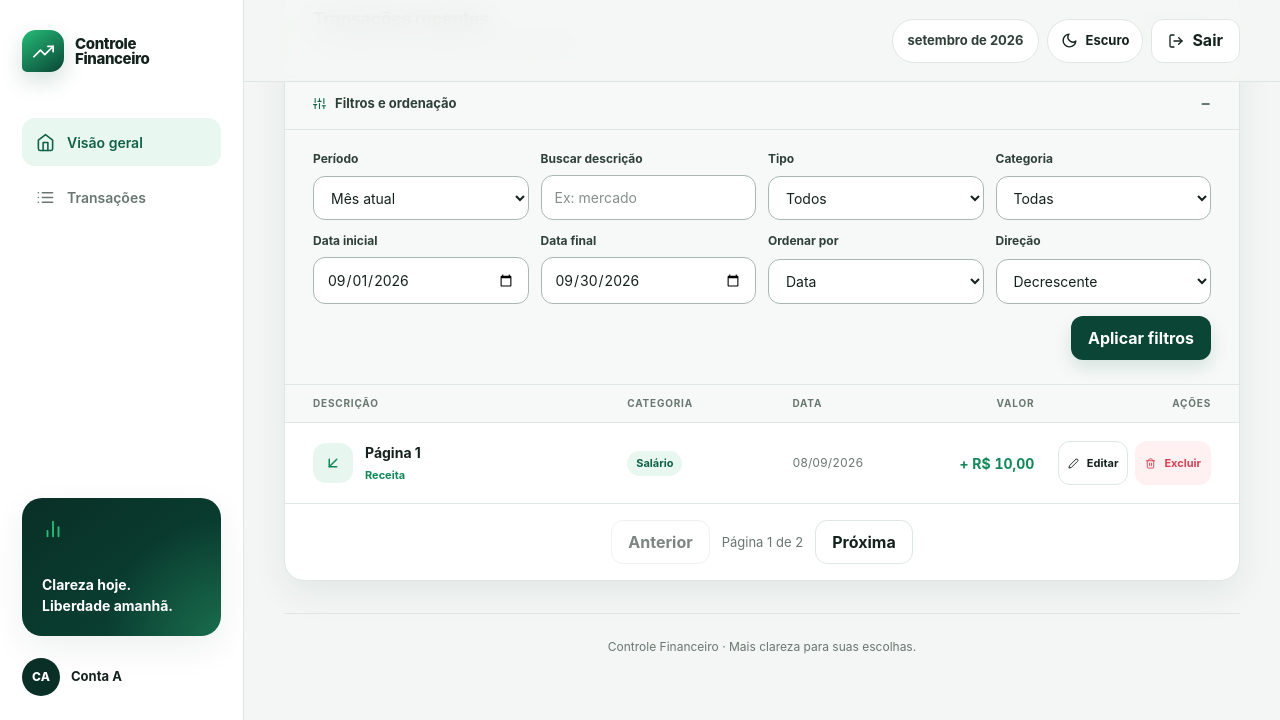
Test: navega entre páginas sem perder os filtros
(page scrolled)
Expected: the button "Sair" is shown, [1151,18,1240,62]
Click the button "Próxima" at (864, 542), box [815,520,913,564]
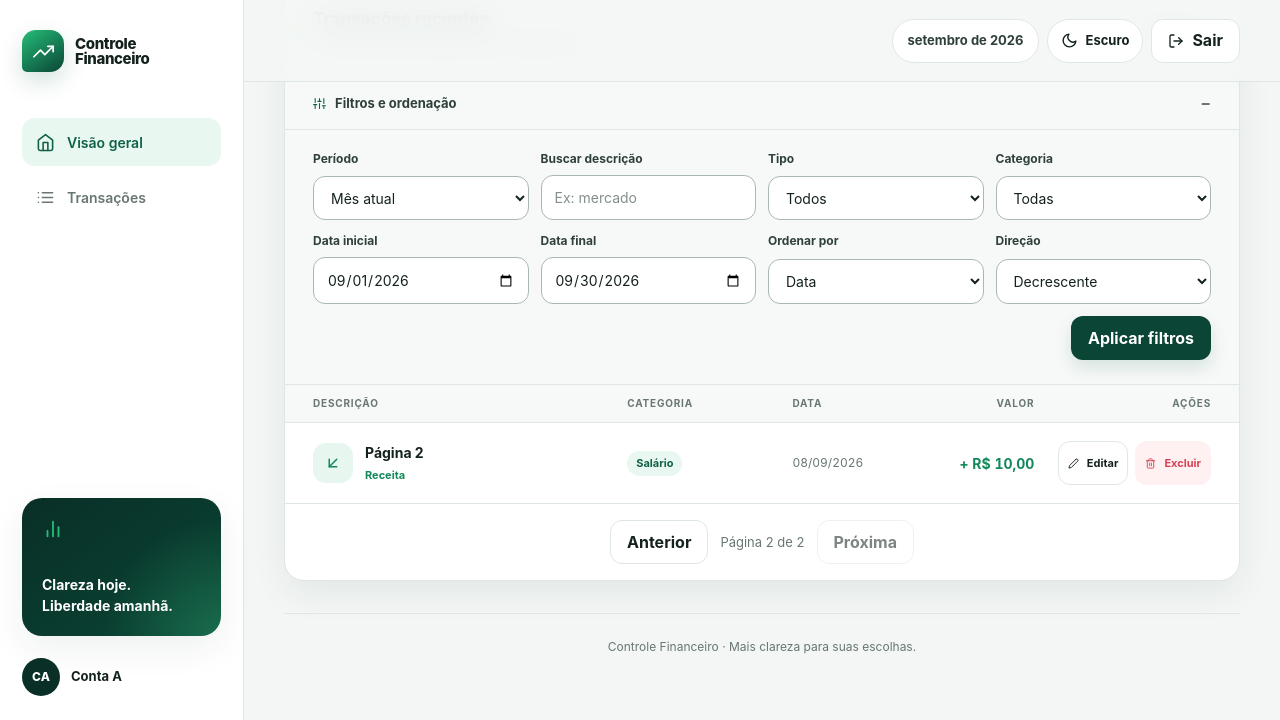
Expected: the heading "Página 2" is shown, [365,444,424,461]
